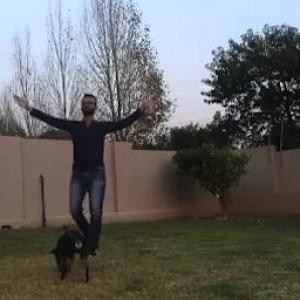takeoff: (17, 80, 158, 259)
